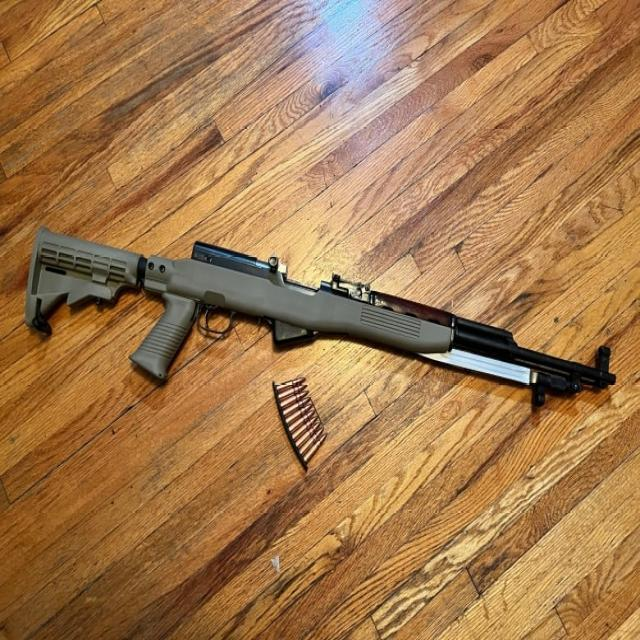rifle: (24, 215, 616, 397)
